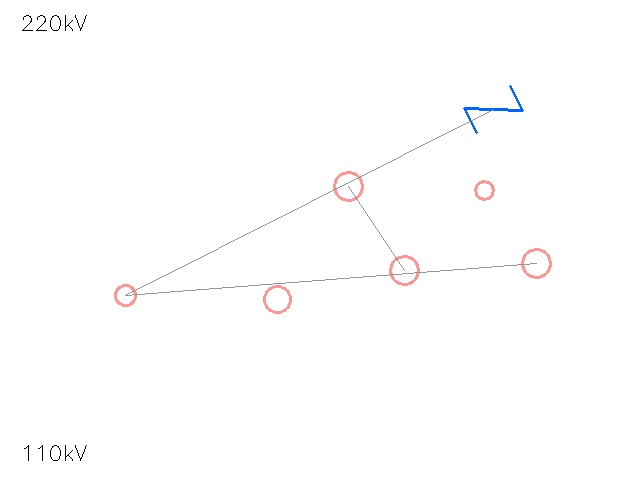circuit_breaker: (465, 81, 521, 137)
fuse: (104, 274, 146, 316)
load_break_switch: (376, 242, 432, 298), (250, 272, 304, 326), (466, 172, 502, 208)
voltage_transformer: (507, 234, 565, 292), (320, 158, 376, 214)
